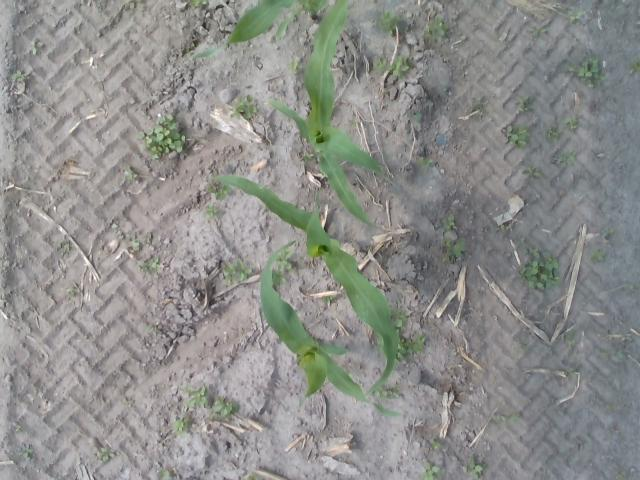Maize: (212, 173, 395, 397), (272, 0, 389, 232), (259, 239, 406, 420), (184, 0, 327, 64)
Weeds: (137, 114, 186, 160), (521, 253, 560, 290), (579, 59, 605, 87), (230, 95, 258, 120), (501, 126, 528, 146), (186, 386, 206, 410), (378, 10, 397, 34), (442, 236, 464, 256), (427, 18, 448, 38), (388, 57, 409, 77), (212, 397, 233, 417), (464, 457, 482, 479), (422, 462, 439, 479), (514, 96, 532, 112), (552, 152, 576, 164), (278, 252, 292, 272), (522, 165, 540, 180), (237, 260, 250, 280), (397, 336, 407, 360), (96, 448, 113, 462), (530, 25, 548, 38), (407, 340, 426, 352), (217, 186, 232, 200), (18, 444, 32, 459), (222, 266, 235, 282), (32, 38, 44, 55), (288, 60, 302, 74), (273, 270, 286, 284), (372, 58, 387, 70), (442, 215, 454, 230), (416, 156, 432, 167), (473, 102, 484, 118), (568, 10, 582, 22), (124, 168, 138, 180), (205, 205, 218, 217), (204, 182, 217, 194), (173, 419, 186, 431), (564, 120, 578, 131), (408, 111, 422, 121), (548, 124, 558, 138), (502, 413, 522, 420), (66, 286, 78, 297), (396, 315, 406, 327), (150, 258, 160, 269), (528, 246, 539, 256), (388, 390, 400, 399), (131, 240, 140, 252), (138, 260, 148, 270), (430, 438, 440, 448), (591, 251, 602, 260), (190, 0, 204, 7), (156, 471, 170, 478), (374, 390, 386, 398), (11, 72, 23, 80), (630, 63, 640, 72), (602, 227, 612, 236), (324, 296, 334, 304), (302, 154, 312, 162), (116, 229, 124, 239), (147, 324, 156, 332), (567, 64, 575, 72), (350, 119, 359, 126), (126, 0, 146, 3), (186, 45, 194, 52), (110, 222, 118, 229), (64, 243, 70, 250), (496, 226, 505, 230), (520, 238, 526, 243)
